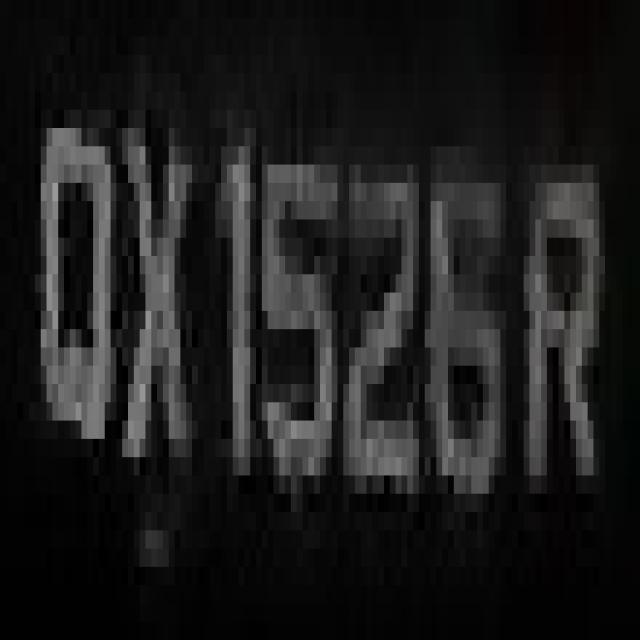1: (215, 55, 262, 567)
2: (337, 110, 425, 567)
5: (250, 91, 343, 548)
6: (407, 73, 518, 549)
Q: (29, 73, 116, 494)
R: (524, 91, 605, 567)
X: (122, 73, 204, 549)
